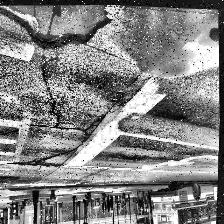pothole: (0, 0, 118, 58)
